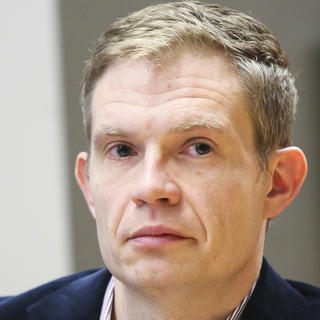eye: (168, 136, 223, 161), (101, 139, 145, 162)
